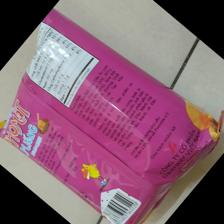Oishi_phomat: (1, 4, 224, 223)
